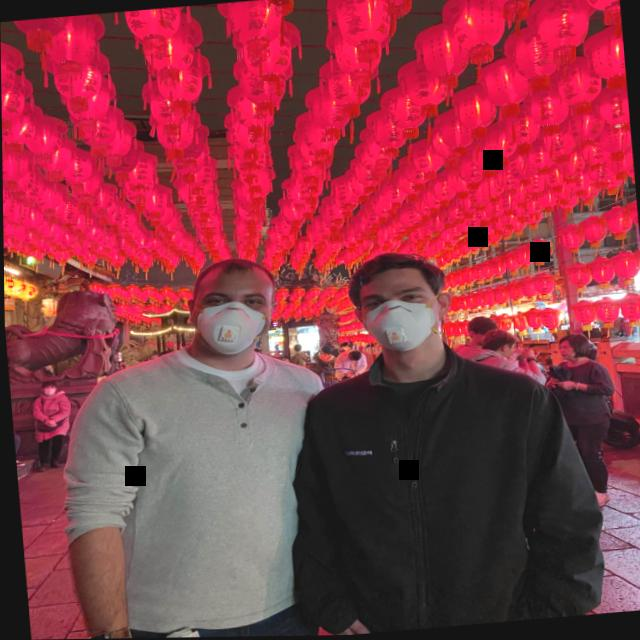Mask: (339, 245, 463, 365), (178, 251, 293, 363)
NO-Mask: (551, 329, 600, 369)
